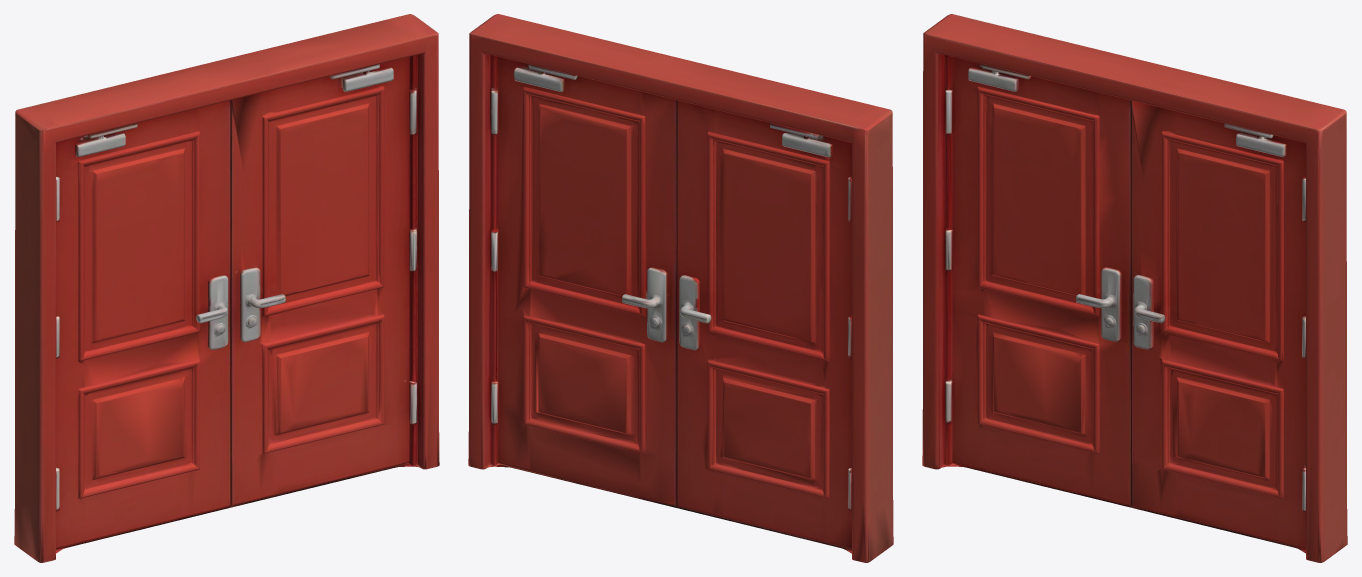
File: 防火门 双扇.glb
The picture shows the model from 3 angles, left to right: view 1: azimuth 30°, elevation 25°; view 2: azimuth 150°, elevation 25°; view 3: azimuth 330°, elevation 25°; orthographic projection.
Visible parts, largest first — view 1: node_0; view 2: node_0; view 3: node_0.
Boxes of the visible parts, x1,y1,x2,y2 form: node_0: [14, 14, 439, 562]; node_0: [468, 14, 893, 562]; node_0: [922, 14, 1347, 562].
Size of the model in its own units: 0.8335 by 0.8606 by 0.1174.
Materials: 1 (1 with a texture image).
